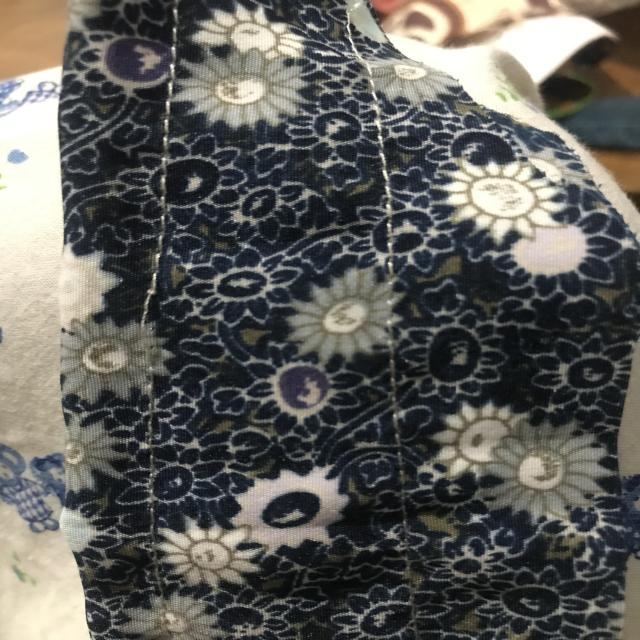skip: (129, 285, 176, 379)
